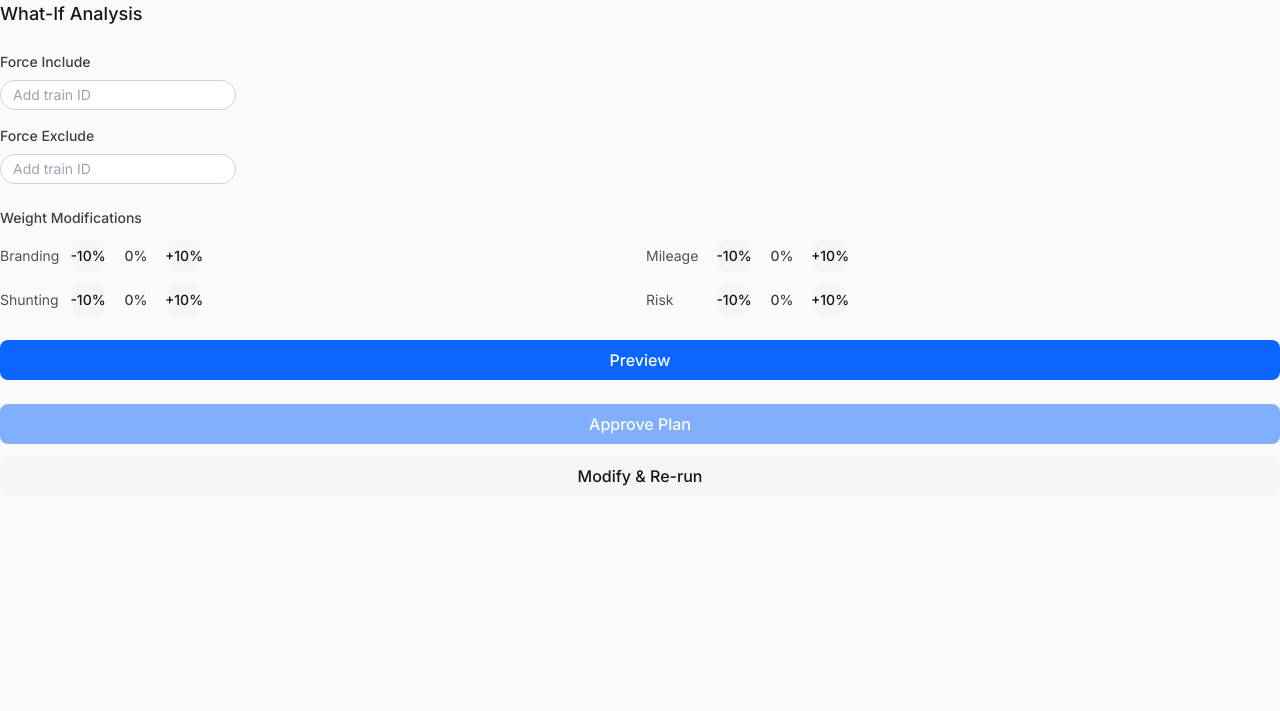
WhatIfPanel › runs preview when preview button is clicked
Click the button "Preview" at x=640, y=360, box top-left (0, 340), bottom-right (1279, 380)
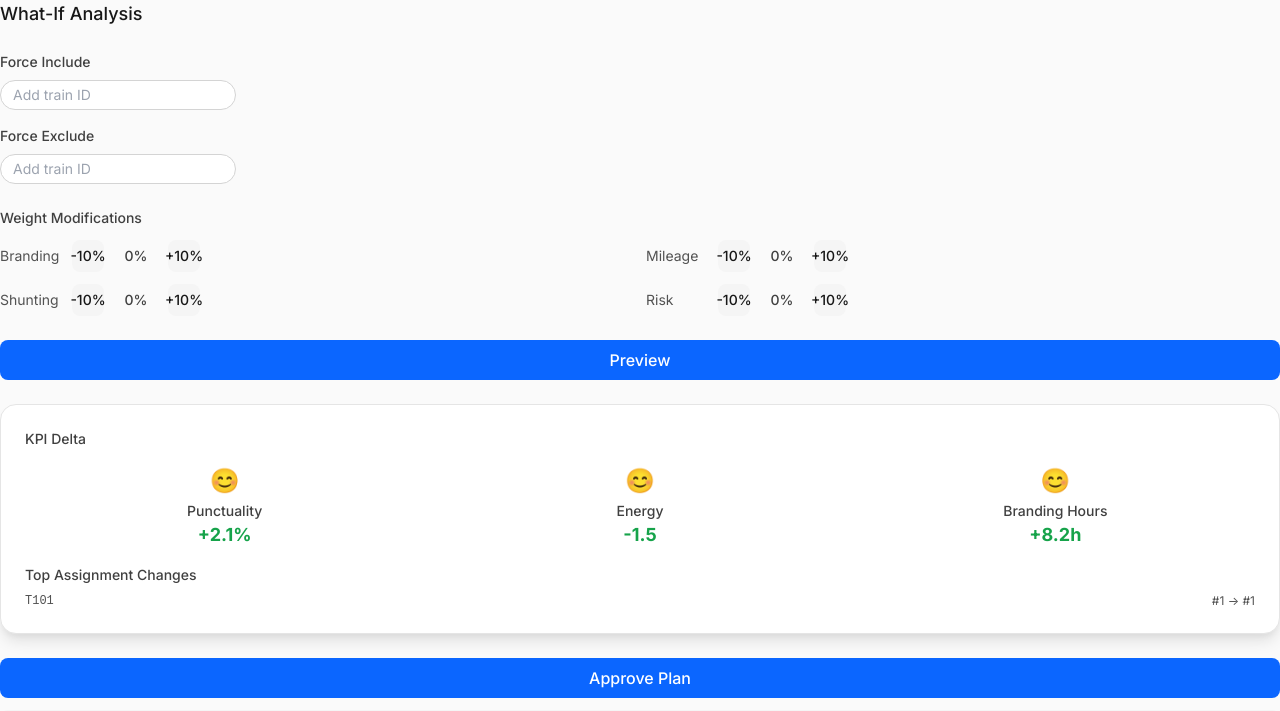
Now the heading "KPI Delta" is shown, box top-left (25, 430), bottom-right (86, 447)
Now the text "+2.1%" is shown, box top-left (198, 524), bottom-right (252, 545)
Now the text "-1.5" is shown, box top-left (623, 524), bottom-right (657, 545)
